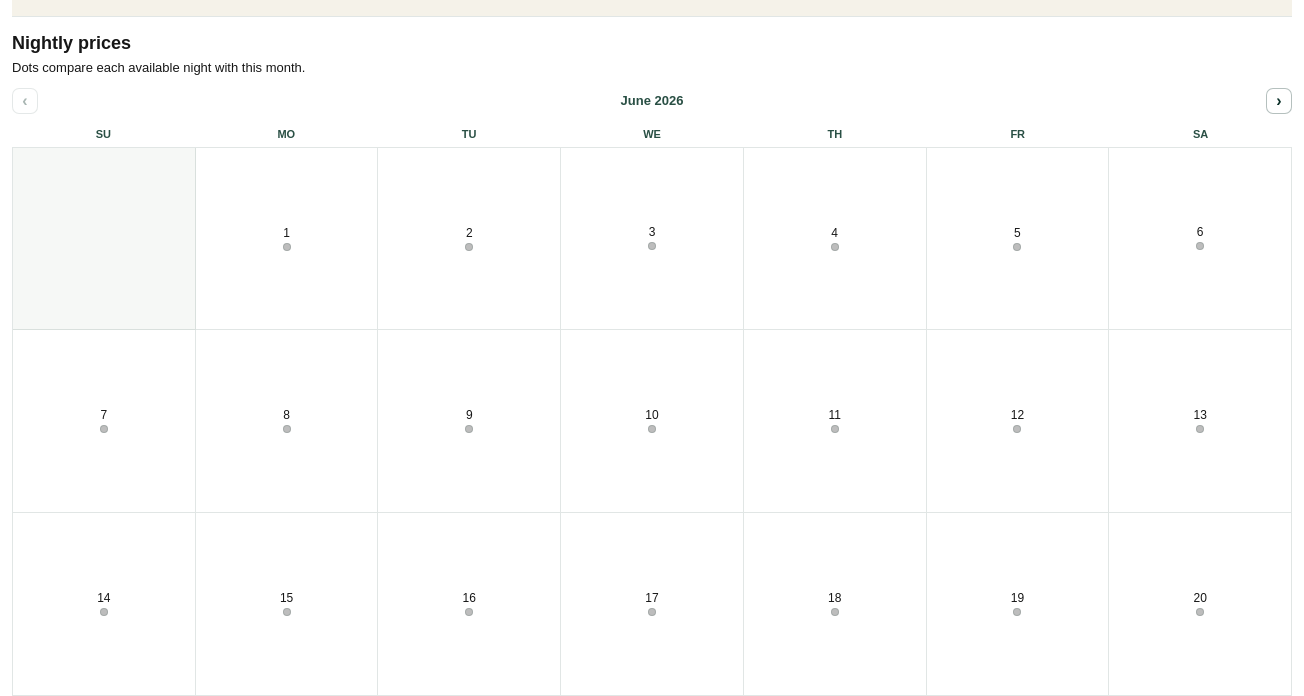
Scenario: CalendarWithPriceDots › lazy-loads a new month on navigation without refetching cached months
Expected: the picture named "June 1," is shown, [283, 242, 291, 250]
Step 1. Click the button named "Next month" → point(1279, 101), box [1266, 88, 1292, 114]
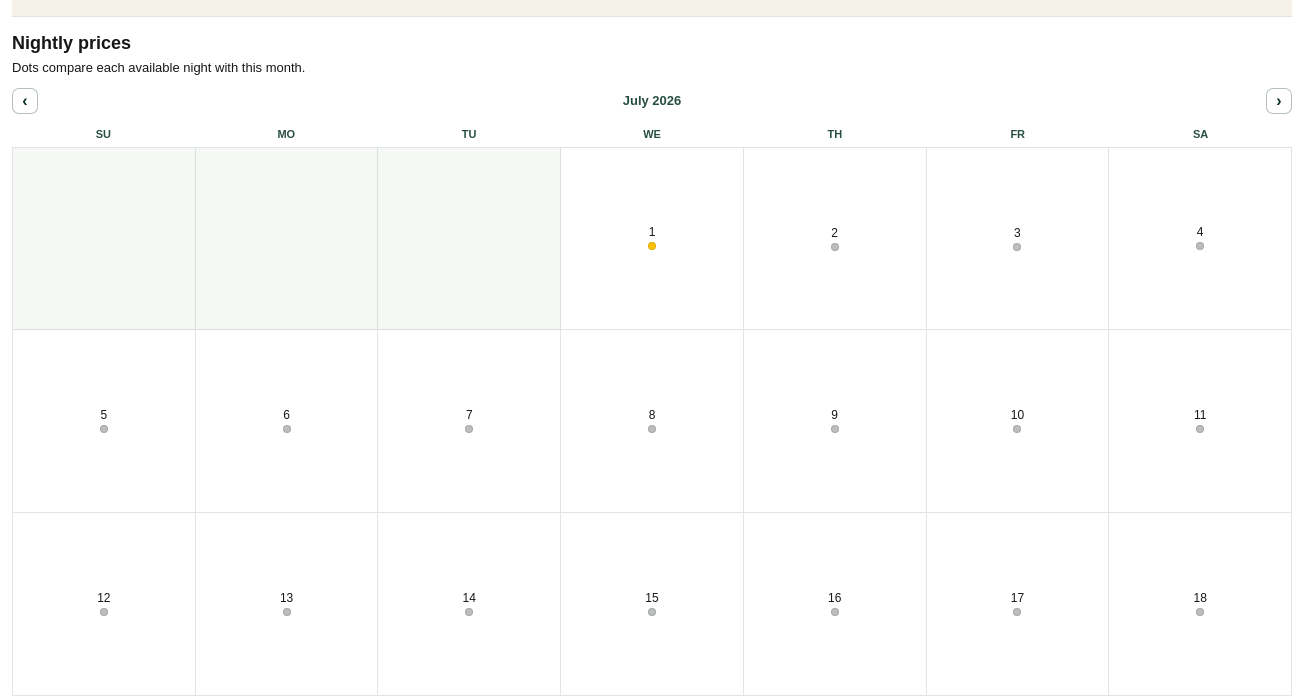
Expected: the picture named "July 1, $150.00, average price" is shown, [648, 242, 656, 250]
Step 2. Click the button named "Previous month" → point(25, 101), box [12, 88, 38, 114]
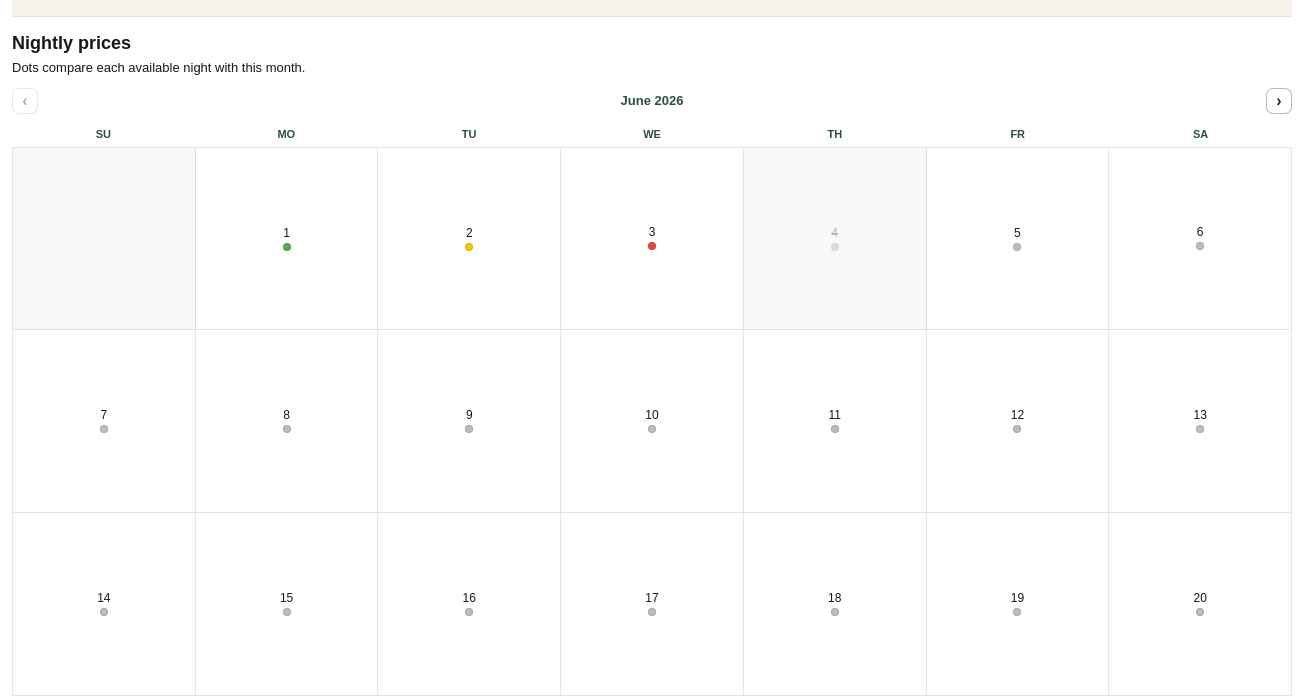
Expected: the picture named "June 1," is shown, [283, 242, 291, 250]
